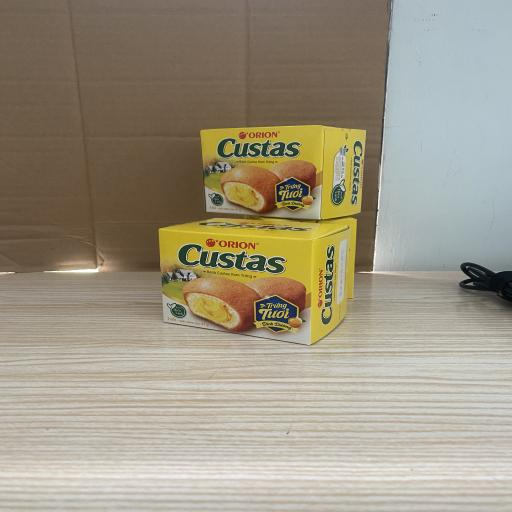custas: (158, 218, 350, 344), (200, 125, 366, 220), (246, 215, 357, 299)
